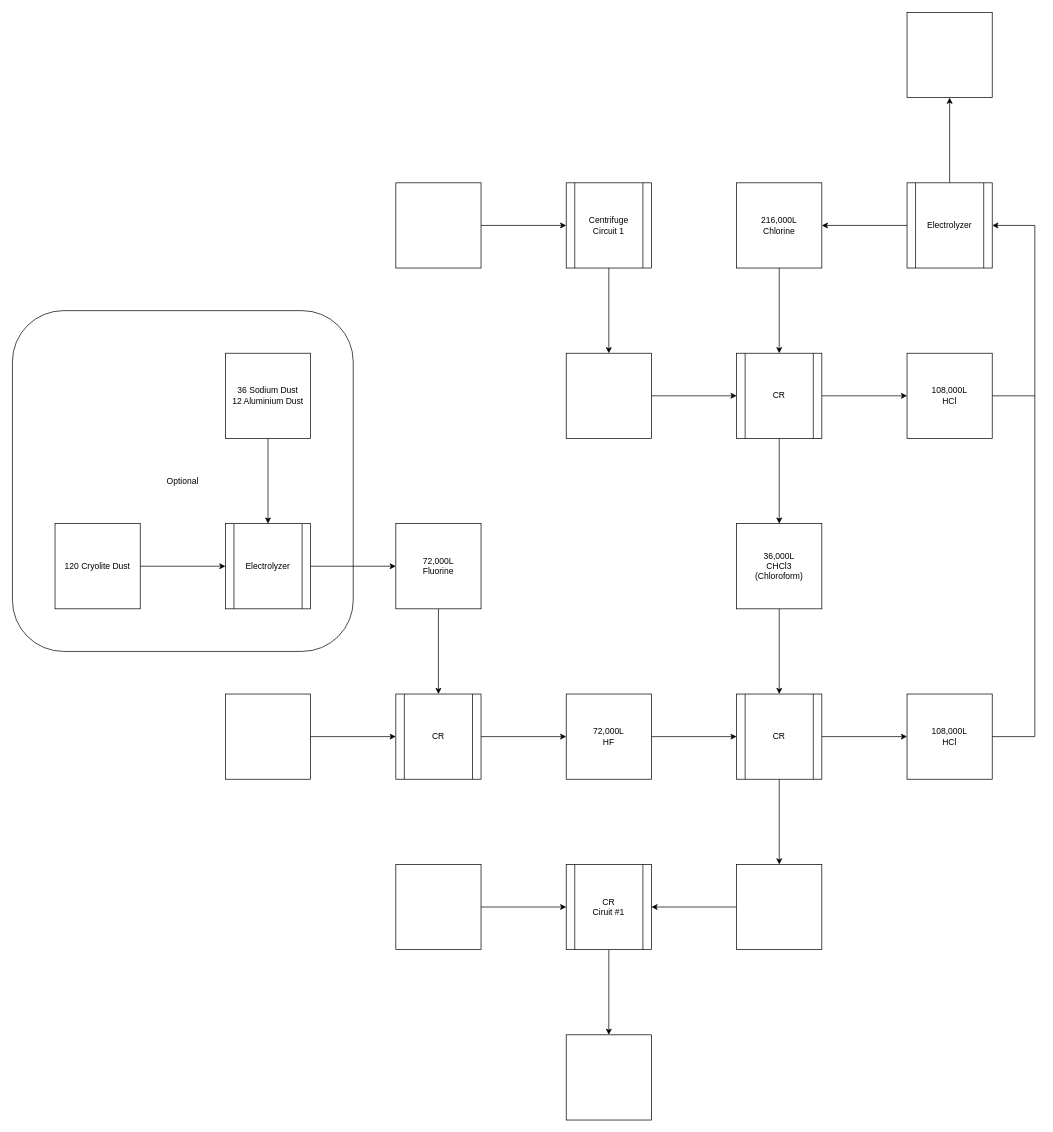
Some shapes in this 1053 by 1132 pixel diagram are drawn without their labels. The centre of each missing label's shape, as x and y in pixels:
125,000L Oxygen: the point at 438,907
18,000L Tetrafluoroethylene (TFE): the point at 779,907
216,000L Hydrogen: the point at 949,55
27,000L PTFE: the point at 608,1077
36,000L CH4 (Methane): the point at 608,395
600 Logs: the point at 438,225
72,000L Hydrogen: the point at 268,736
